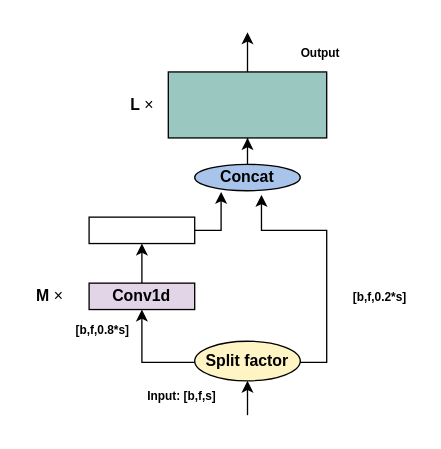
Some shapes in this 441 by 449 pixel diagram are drawn without their labels. Each missing label, with the centre of its shape:
Activation: the point at 141,230
Prediction model: the point at 247,104
